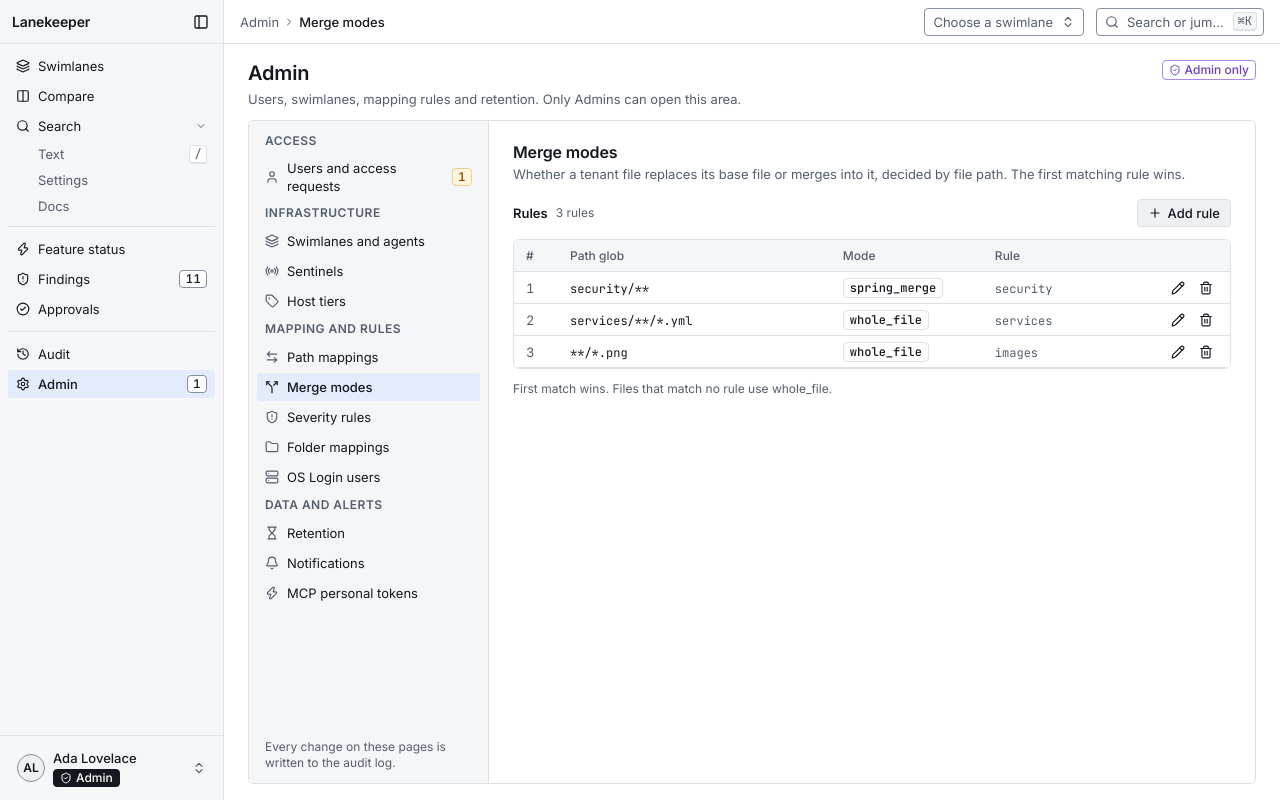
Test case: adding and changing a rule › changes the mode of a rule and says what that changes
The image size is (1280, 800).
Expected: the heading "Admin" is shown, [248,61,309,85]
Click the button named "Edit rule security" at {"x": 1178, "y": 288}, box [1166,276,1190,300]
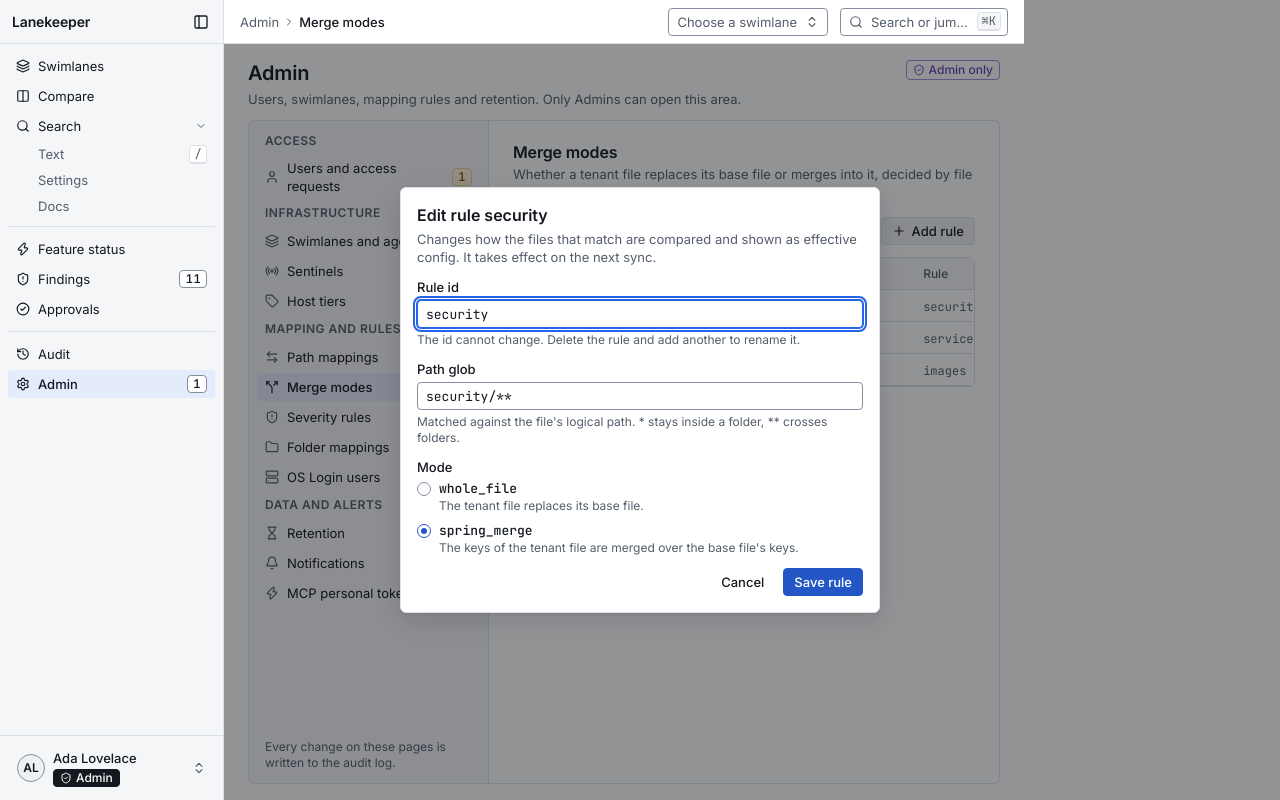
Expected: the 2nd radio button named "spring_merge" is checked, [417,524,431,538]
Expected: the text "Changes how the files that match are compared and shown as effective config" is shown, [417,231,857,265]
Click the 1st radio button named "whole_file" at {"x": 424, "y": 489}, box [417,482,431,496]
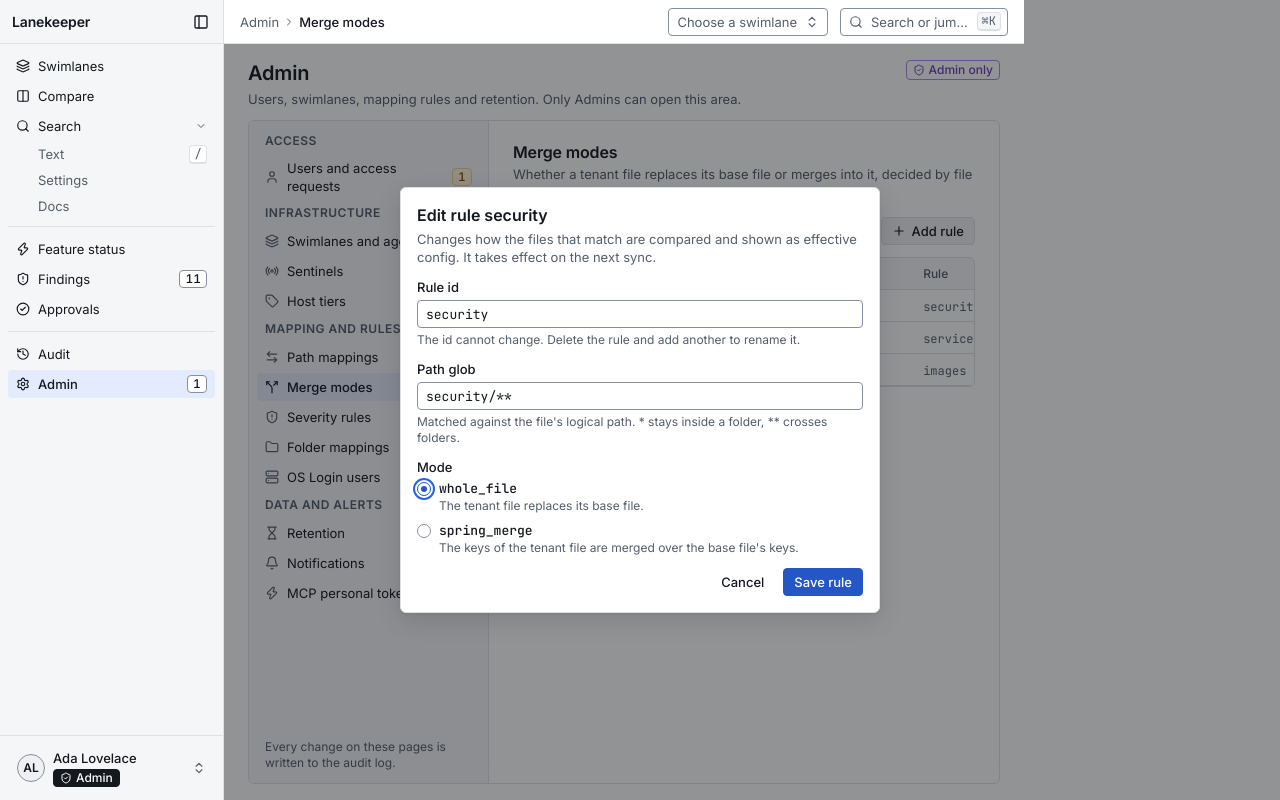
Click the button "Save rule" at {"x": 823, "y": 582}, box [783,568,863,596]
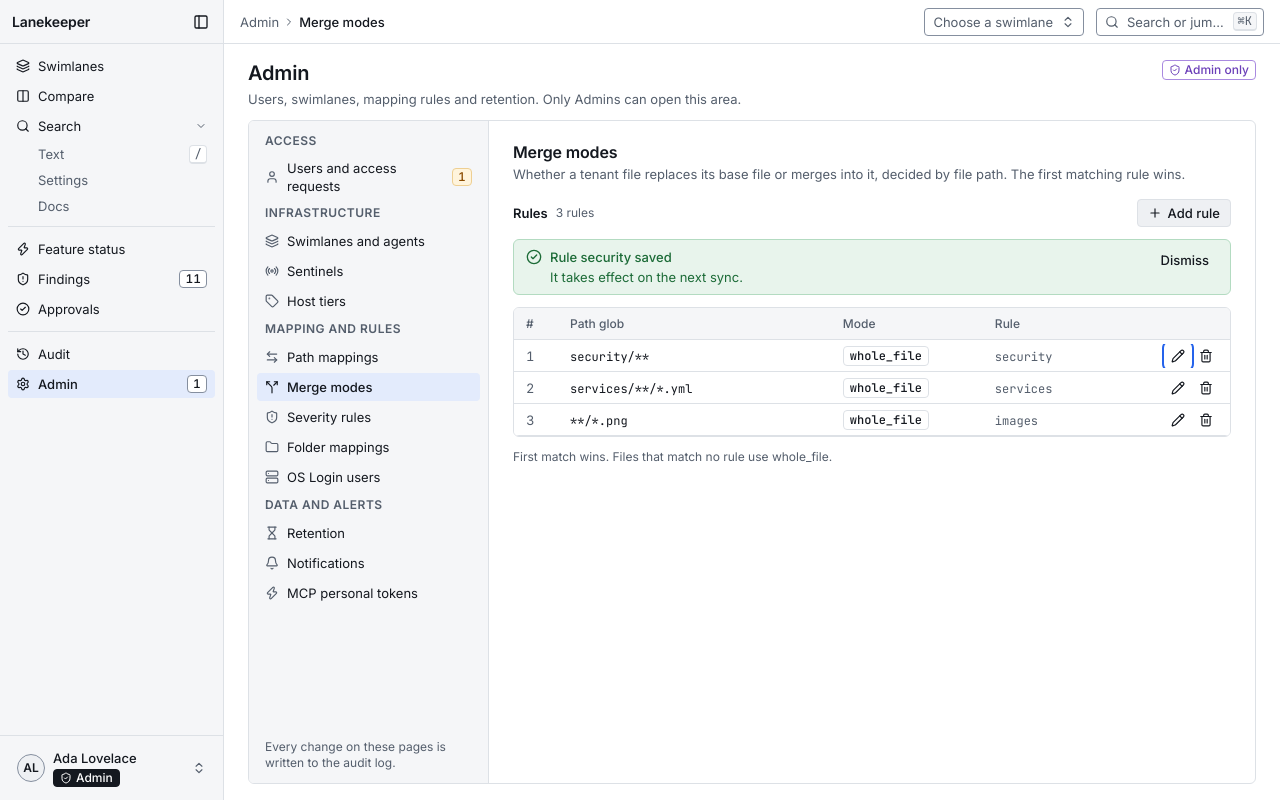
Expected: the dialog is gone
Expected: the text "whole_file" in the row of "security/**" is shown, [850,348,922,364]
